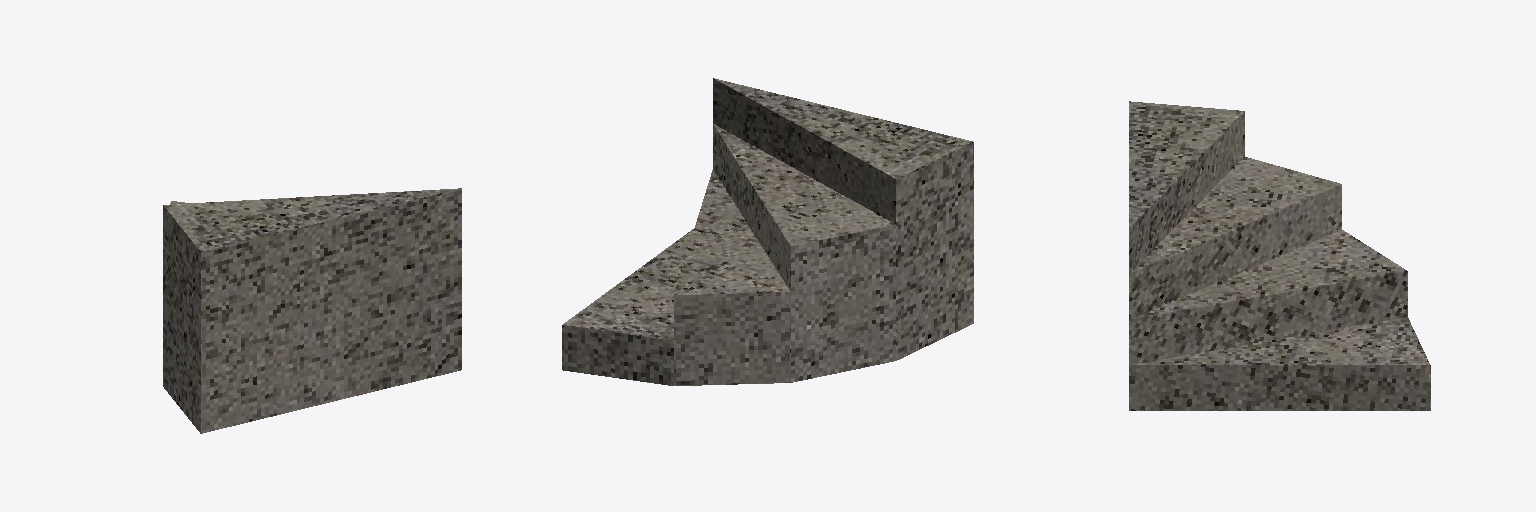
The picture shows the model from 3 angles: view 1: azimuth 30°, elevation 25°; view 2: azimuth 150°, elevation 25°; view 3: azimuth 270°, elevation 25°; orthographic projection.
Bounding box in the file's own units: 1 × 0.6667 × 1.
Materials: 1 (1 with a texture image).